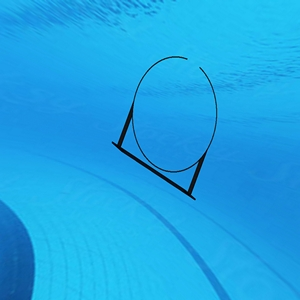circle: (111, 54, 221, 203)
